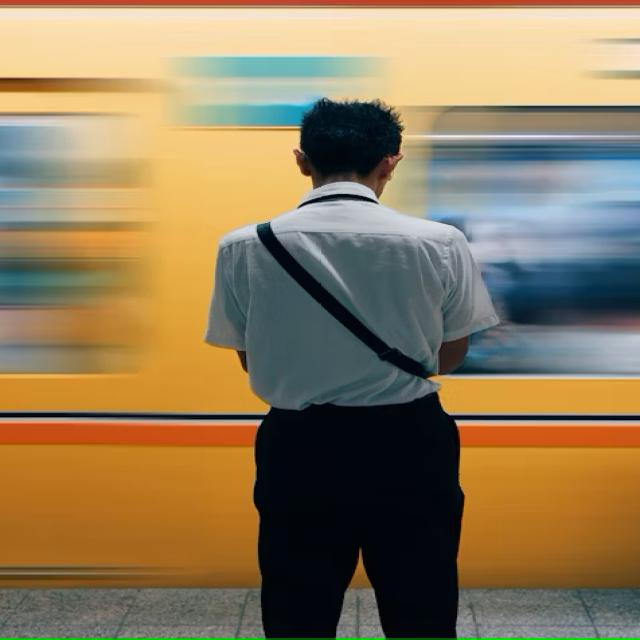Edited images: (202, 81, 538, 640)
